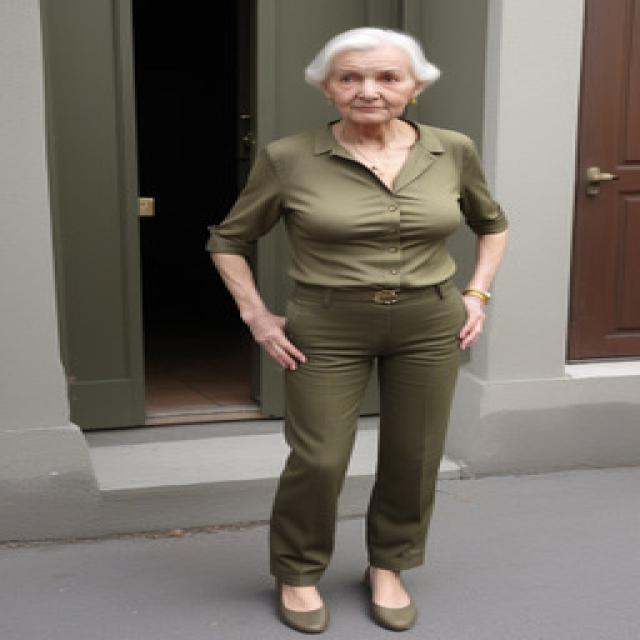Ai human 2: (184, 20, 503, 640)
